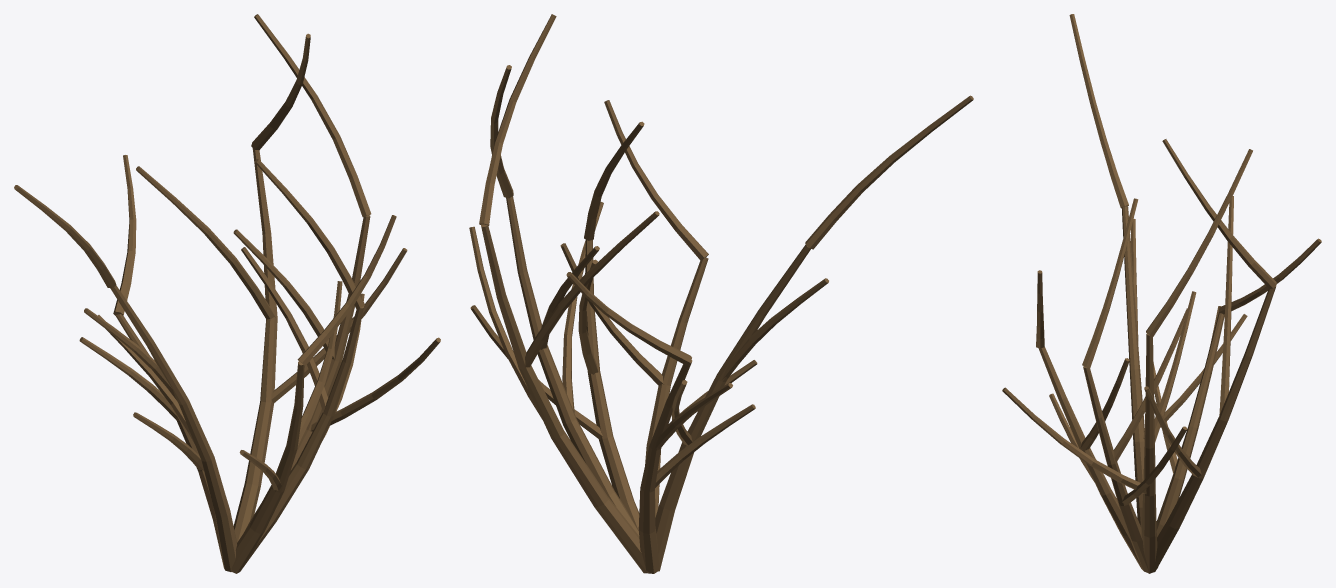
File: shrub_dry.glb
The picture shows the model from 3 angles, left to right: view 1: azimuth 30°, elevation 25°; view 2: azimuth 150°, elevation 25°; view 3: azimuth 270°, elevation 25°; orthographic projection. The views are drawn at different scales.
Parts seen in each view (by area): view 1: Shrub branches; view 2: Shrub branches; view 3: Shrub branches.
Boxes of the visible parts, left/top/right/bottom form: Shrub branches: left=14, top=14, right=440, bottom=573; Shrub branches: left=469, top=14, right=973, bottom=573; Shrub branches: left=1002, top=14, right=1321, bottom=573.
Bounding box in the file's own units: 1.57 × 1.77 × 1.09.
